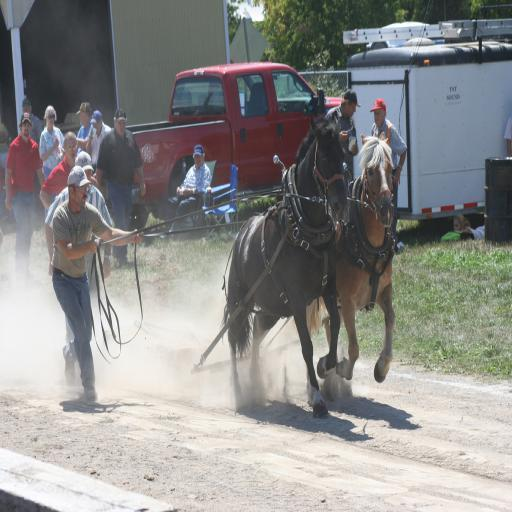horse: (220, 112, 350, 422), (303, 131, 396, 382)
